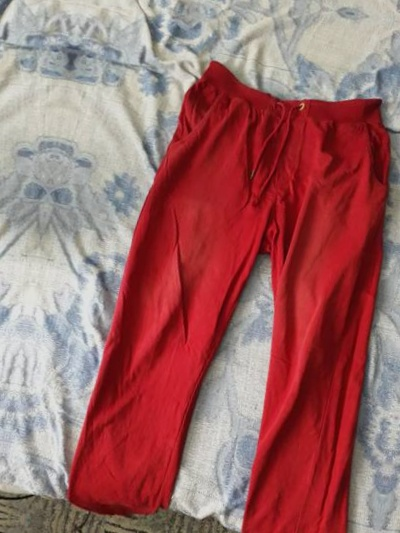Pants: (40, 53, 400, 533), (0, 0, 27, 504), (389, 113, 400, 533), (0, 525, 349, 533)
